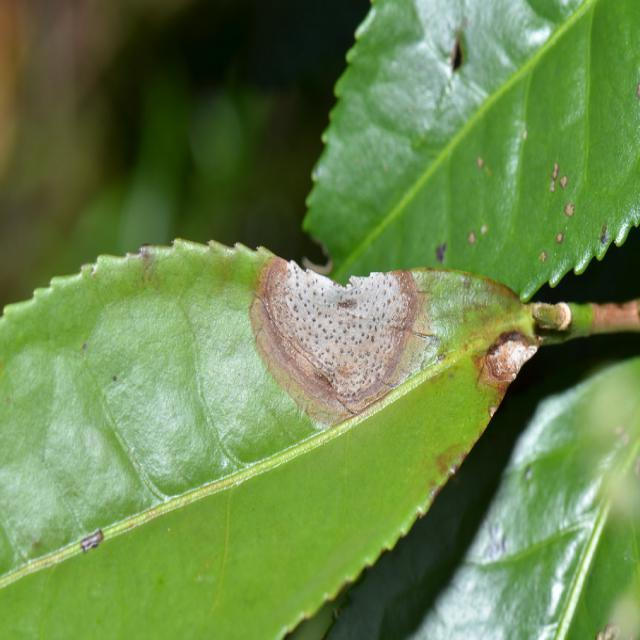Tea cloud leaf blight: (255, 249, 415, 407)
